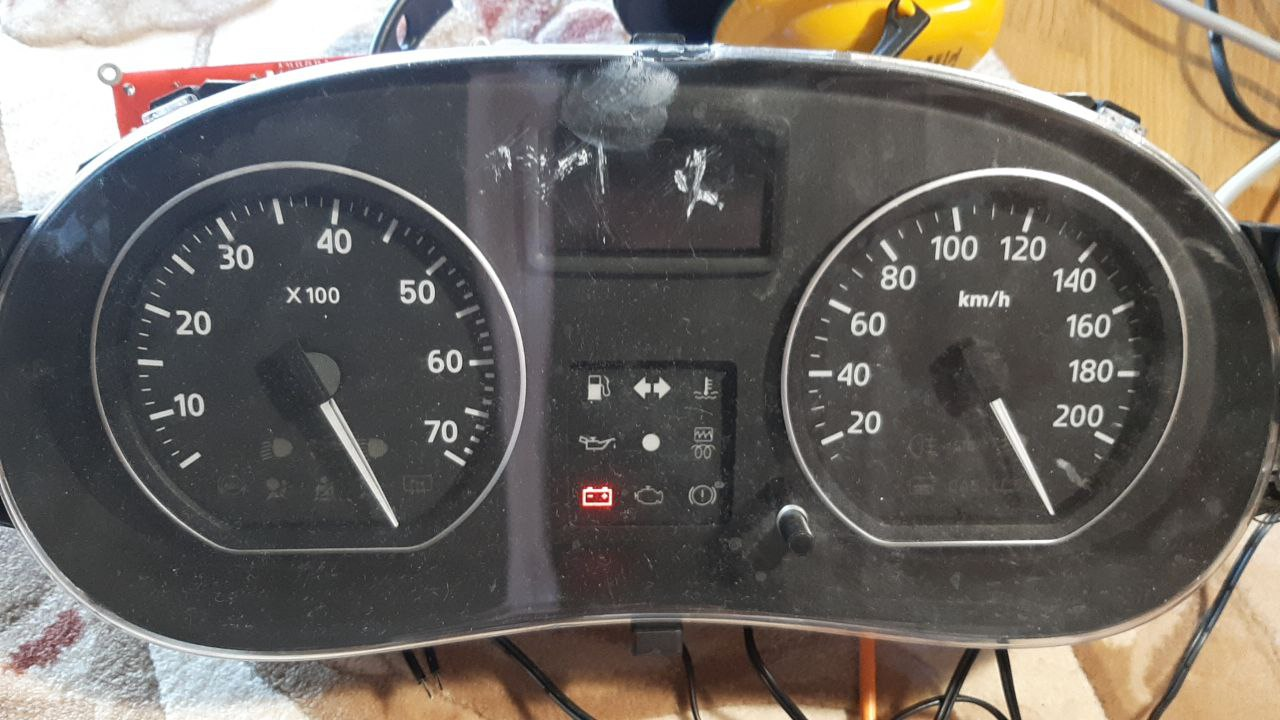accumulator: (580, 481, 616, 511)
